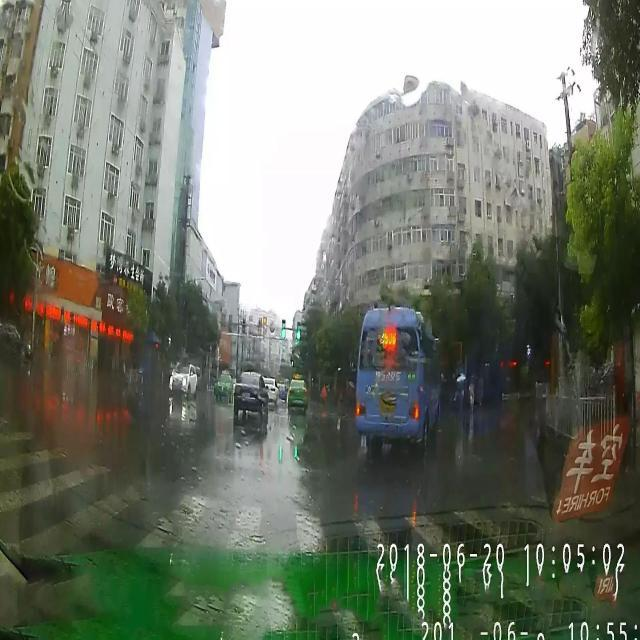car: (233, 370, 268, 428), (168, 359, 198, 399), (288, 372, 308, 414), (212, 367, 233, 403), (264, 374, 279, 408)
